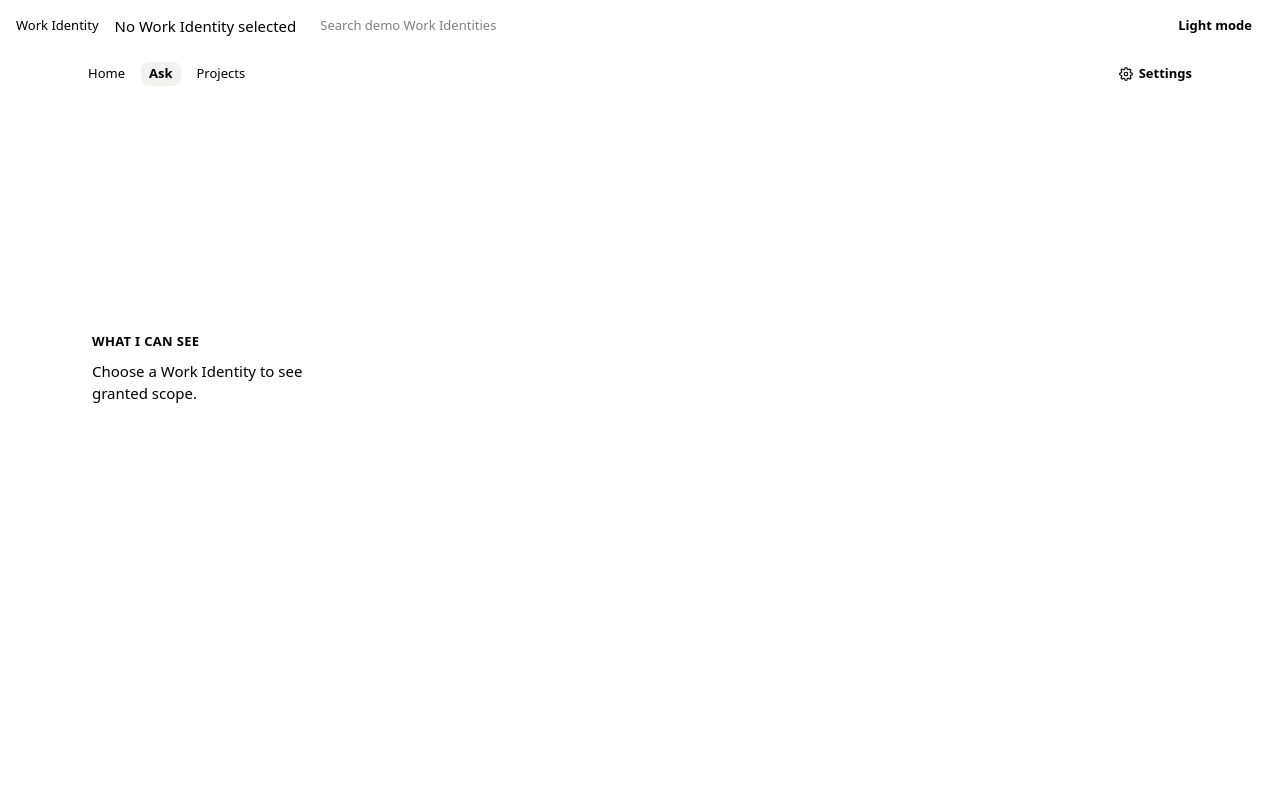
B2: one h1 and no skipped heading levels on every routed surface › the Settings drawer keeps heading discipline when OPEN (Track A's new shell modal)
The width and height of the screenshot is (1280, 800).
What coordinates should you click on to do the following:
click the button with test id "settings-open"
I would click on:
 (1155, 74)
Its box is [1111,58,1200,90].
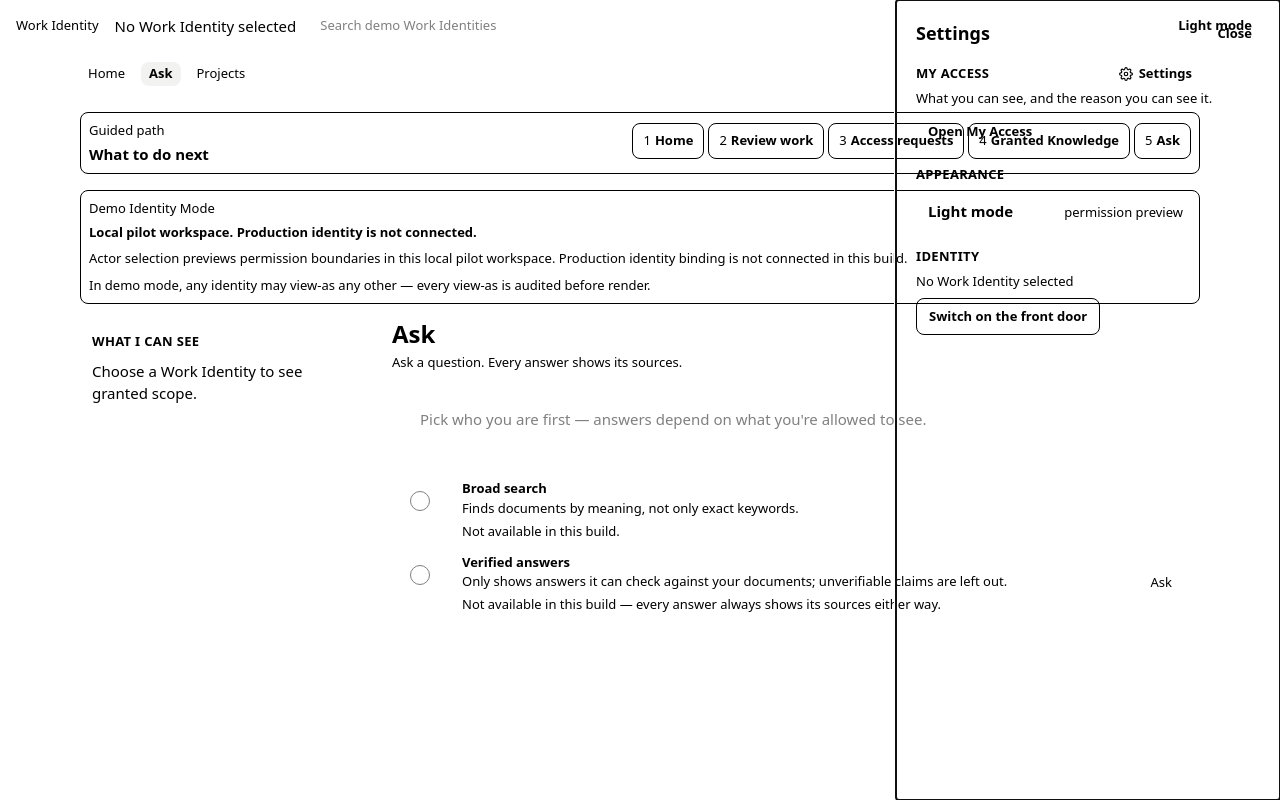
Check: the dialog with test id "settings-drawer" is shown, box [916,20,1260,335]
